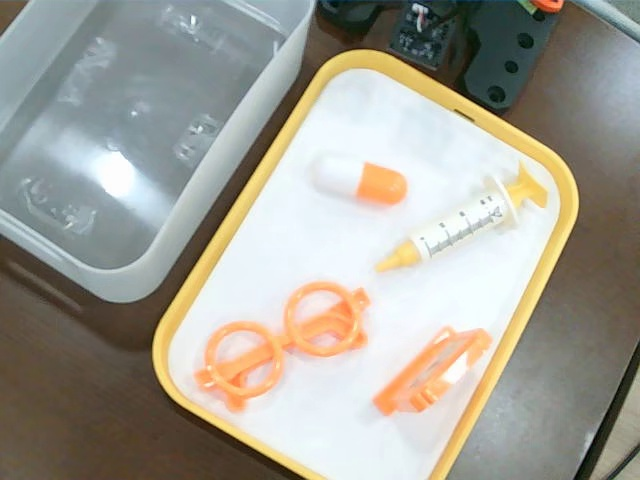pill: (309, 149, 409, 207)
syringe: (377, 161, 548, 275)
